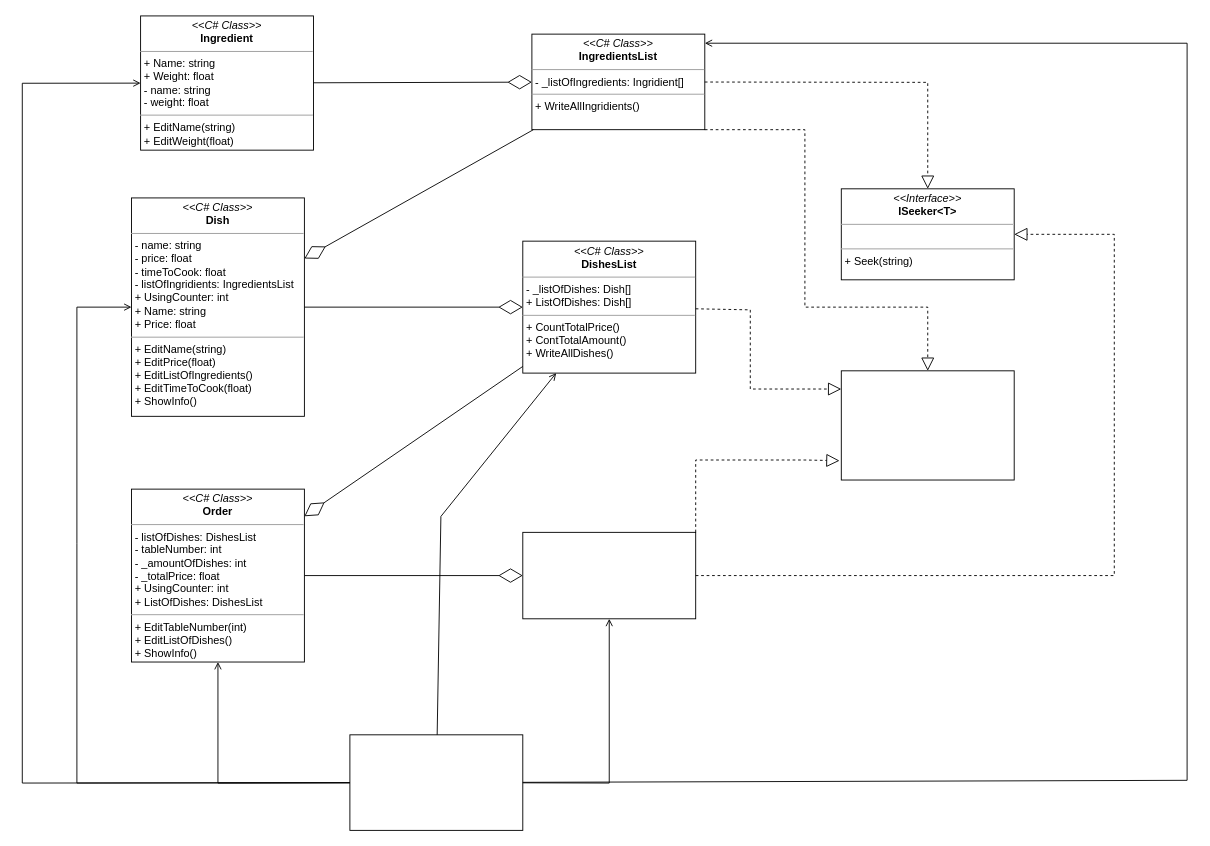
Some shapes in this 1210 by 846 pixel diagram are drawn without their labels. The box of each missing label's shape, as (x1, y1, x2, y2) in pixels:
<<C# Abstract Class>> Program static Main(): (349, 734, 523, 830)
<<C# Class>> OrdersList - _listOfOrders: Order[]: (522, 531, 696, 619)
<<Interface>> IManipulations<T> + Add(T) + Delete(T) + Change(T): (840, 370, 1014, 480)
